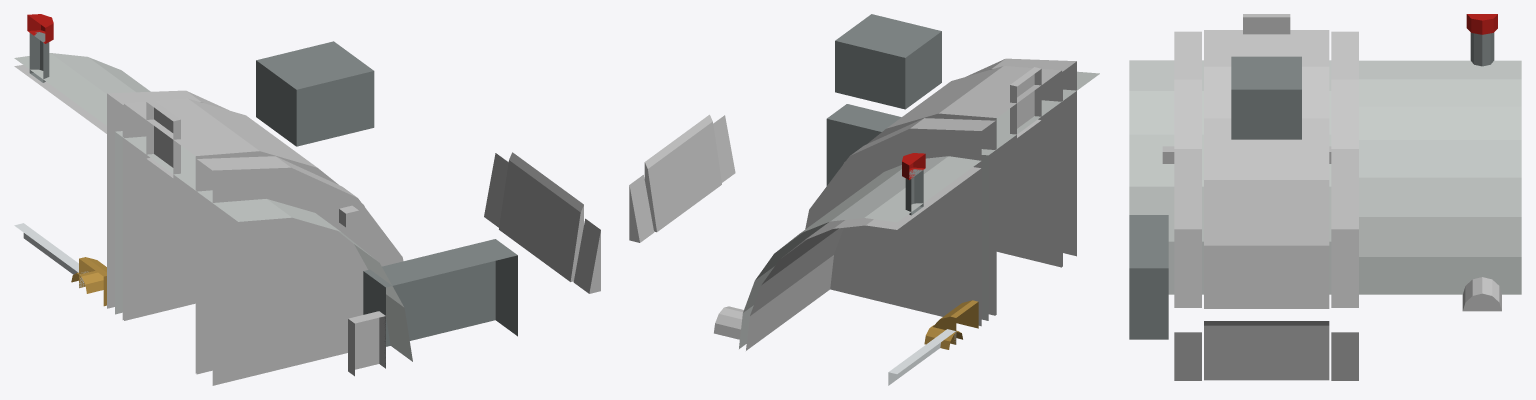
Rendered from cell_91.obj.
3 renders of one model, left to right at view 1: azimuth 30°, elevation 25°; view 2: azimuth 150°, elevation 25°; view 3: azimuth 270°, elevation 25°, orthographic. The views are drawn at different scales.
Size of the model in its own units: 1 by 0.6 by 1.
